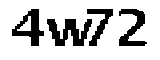2: (115, 5, 154, 50)
4: (9, 6, 45, 50)
7: (91, 6, 114, 53)
w: (47, 15, 90, 49)
